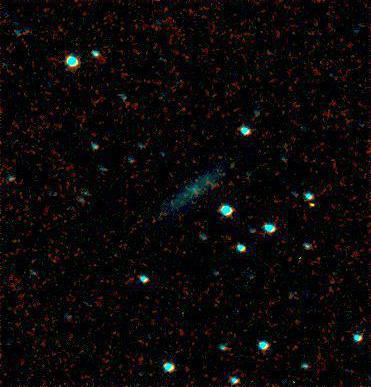star: (297, 189, 327, 219)
